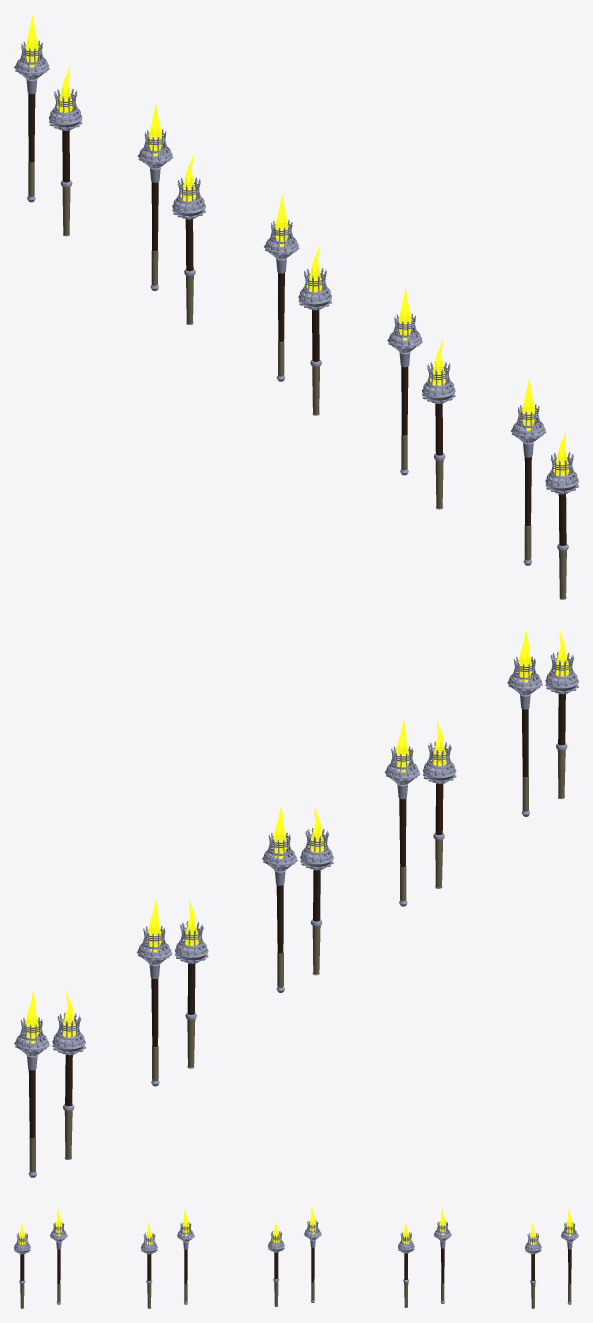
Rendered from flame.fbx.
The picture shows the model from 3 angles, top to bottom: view 1: azimuth 30°, elevation 25°; view 2: azimuth 150°, elevation 25°; view 3: azimuth 270°, elevation 25°; orthographic projection. The views are drawn at different scales.
Visible parts, largest first — view 1: rope; view 2: rope; view 3: rope.
Part boxes in pixels (bbox=[...]): rope: bbox=[14, 14, 578, 599]; rope: bbox=[14, 629, 578, 1177]; rope: bbox=[14, 1206, 578, 1308].
Bounding box in the file's own units: 6.03 × 35.37 × 177.
